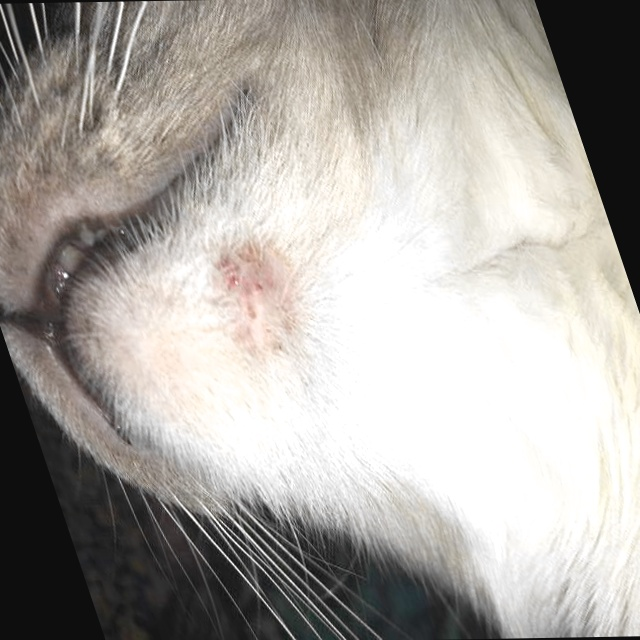acne: (193, 238, 313, 338)
